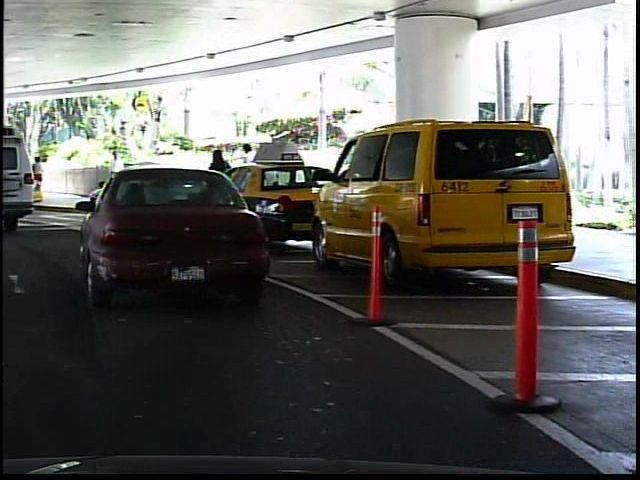person: (204, 141, 237, 209), (239, 139, 266, 210), (104, 145, 128, 204), (29, 154, 50, 199)
